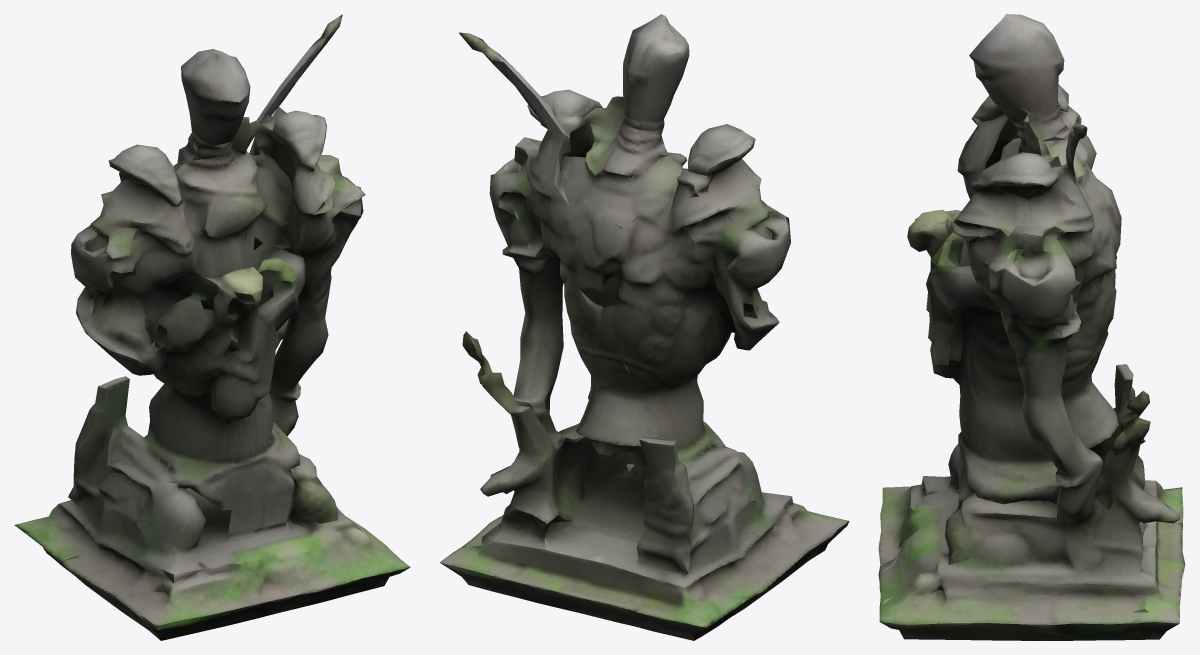
Rendered from verdant-moss-knight-statue.glb.
The picture shows the model from 3 angles, left to right: view 1: azimuth 30°, elevation 25°; view 2: azimuth 150°, elevation 25°; view 3: azimuth 270°, elevation 25°; orthographic projection. The views are drawn at different scales.
Parts seen in each view (by area): view 1: a-single-ancient-stone-statue-of-a_optimized; view 2: a-single-ancient-stone-statue-of-a_optimized; view 3: a-single-ancient-stone-statue-of-a_optimized.
Boxes of the visible parts, left/top/right/bottom form: a-single-ancient-stone-statue-of-a_optimized: left=14, top=14, right=410, bottom=640; a-single-ancient-stone-statue-of-a_optimized: left=439, top=14, right=849, bottom=640; a-single-ancient-stone-statue-of-a_optimized: left=878, top=14, right=1185, bottom=640.
Bounding box in the file's own units: 0.5666 × 0.9935 × 0.4896.
Materials: 1 (1 with a texture image).
